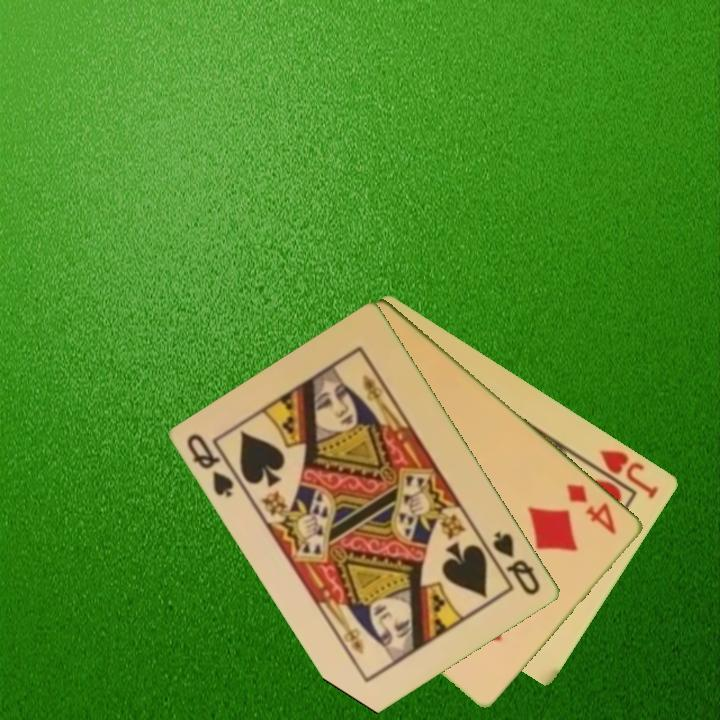4d: (563, 480, 621, 538)
Jh: (596, 446, 662, 502)
Qs: (183, 430, 248, 501), (490, 527, 544, 599)
